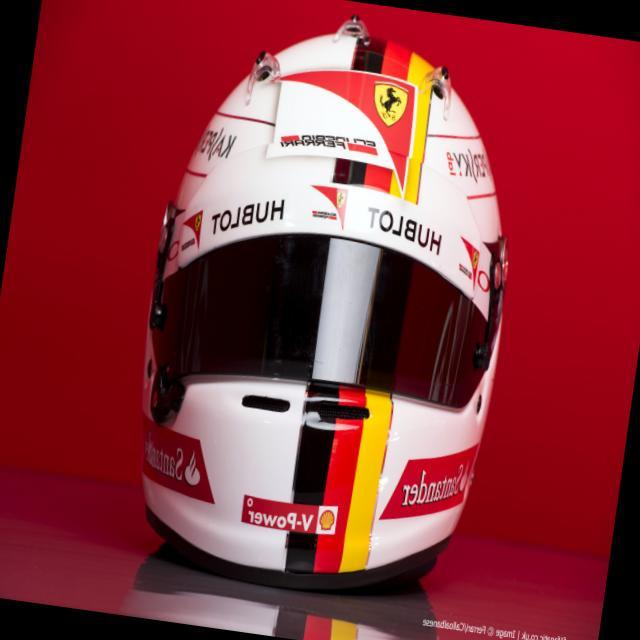Helm: (111, 0, 544, 615)
